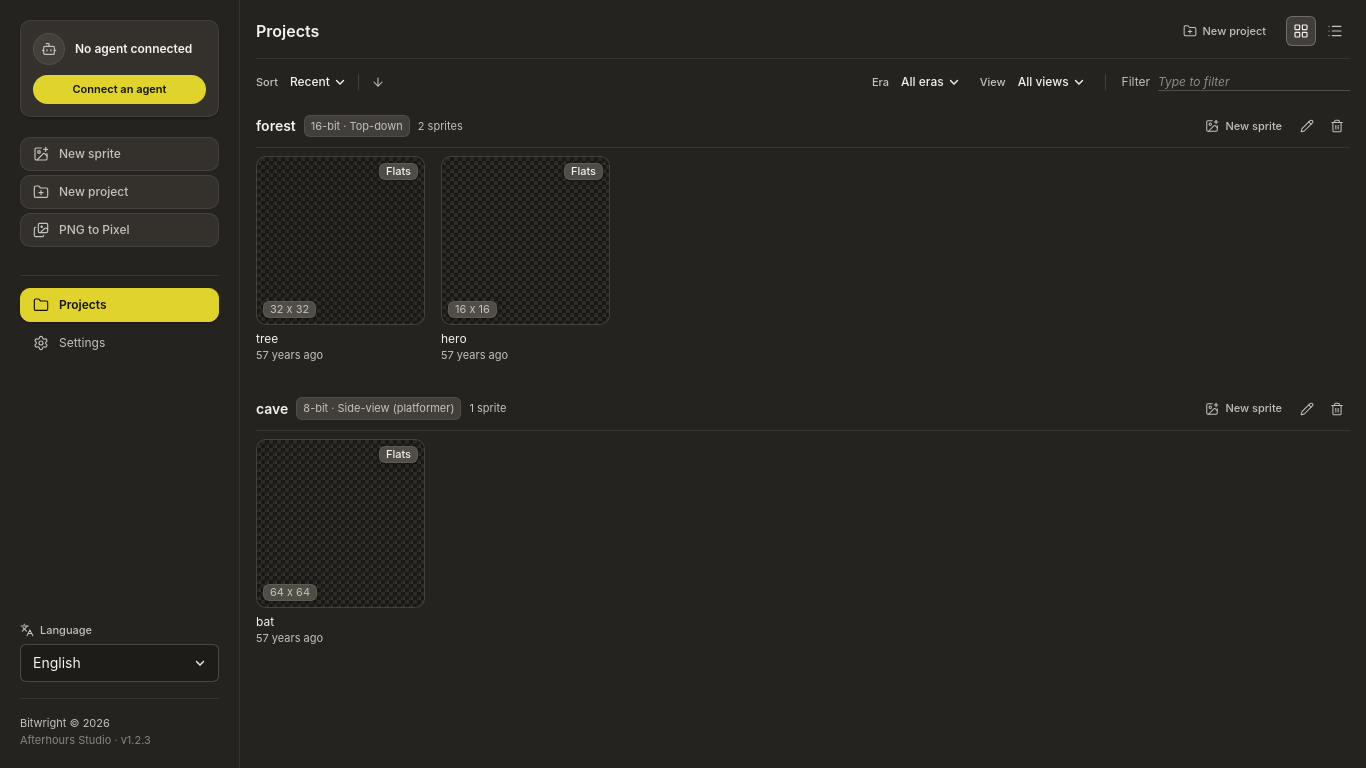
Test: HomeScreen › groups sprites by project and renames a project
The image size is (1366, 768).
Expected: the button named "Open bat" is shown, left=257, top=440, right=424, bottom=606
Expected: the text "16-bit · Top-down" is shown, left=304, top=115, right=410, bottom=137
Click the button named "Rename forest".
click(1307, 126)  # box left=1294, top=113, right=1320, bottom=139
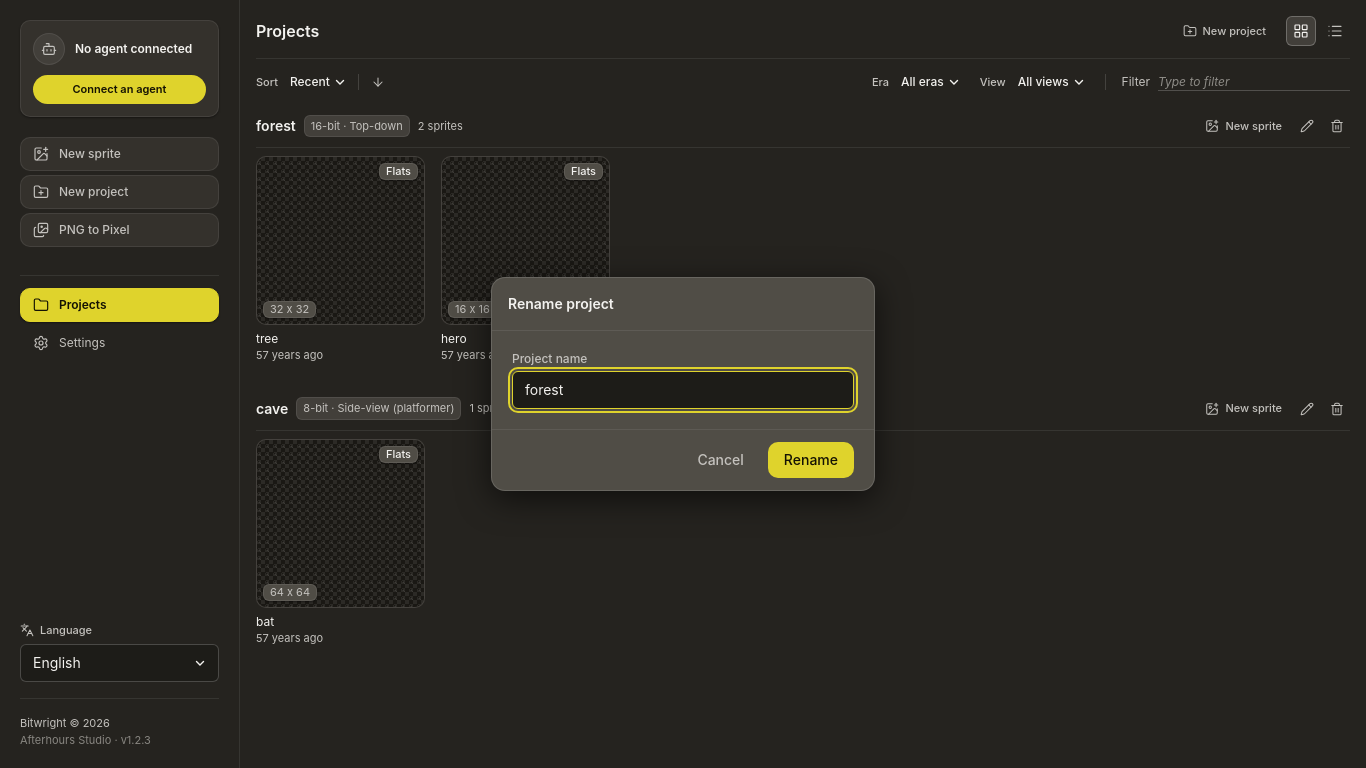
Replace the text in the field labelled "Project name" with "woods" at (683, 390), box left=512, top=371, right=854, bottom=409
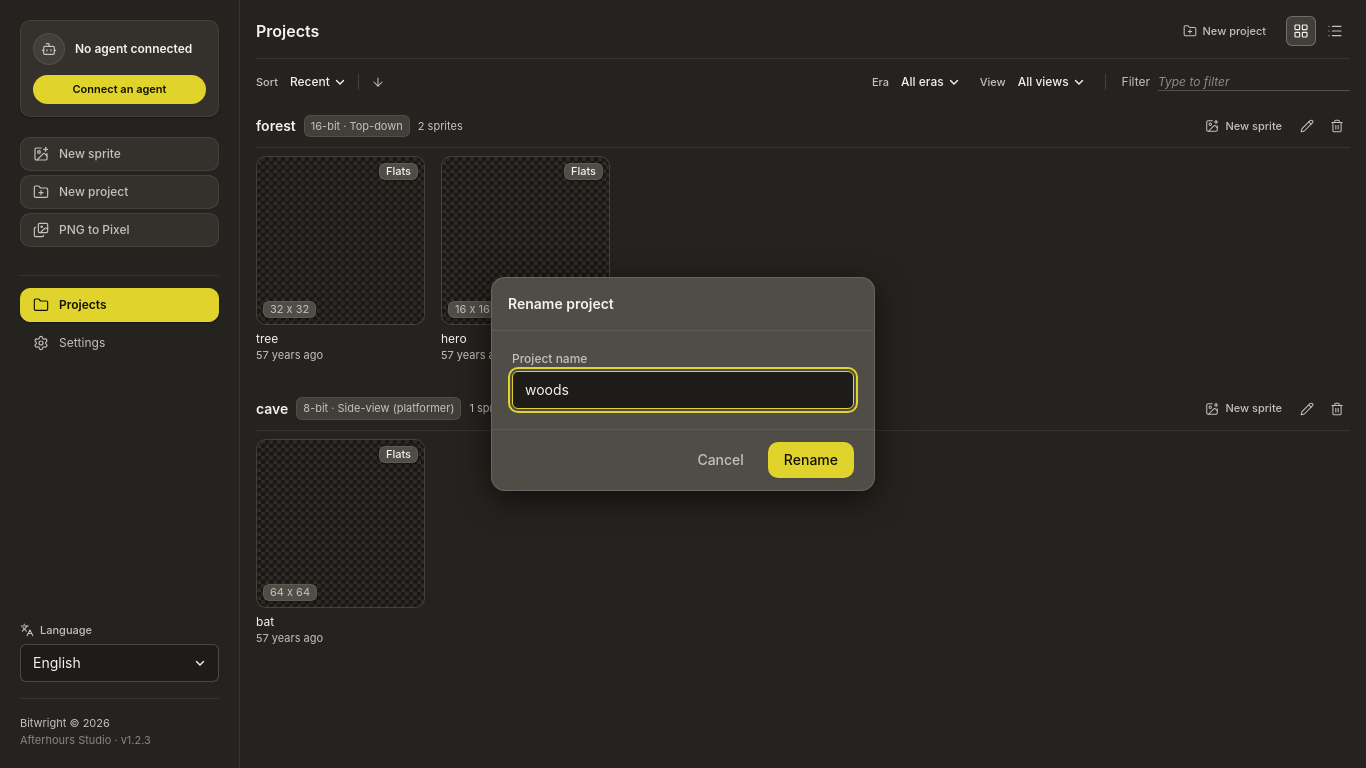
Click the button "Rename".
click(811, 460)  # box left=768, top=442, right=854, bottom=478
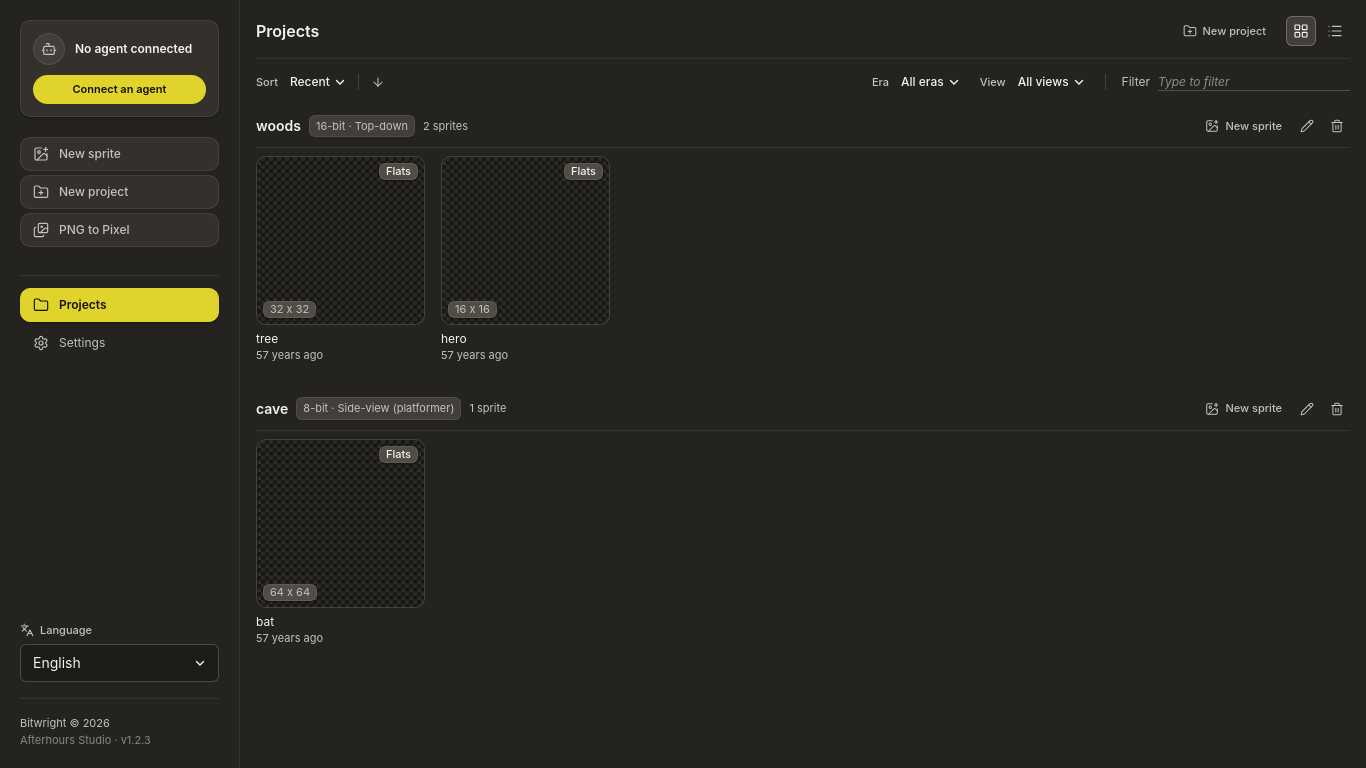
Now the element "woods" is shown, box left=256, top=113, right=1350, bottom=364
